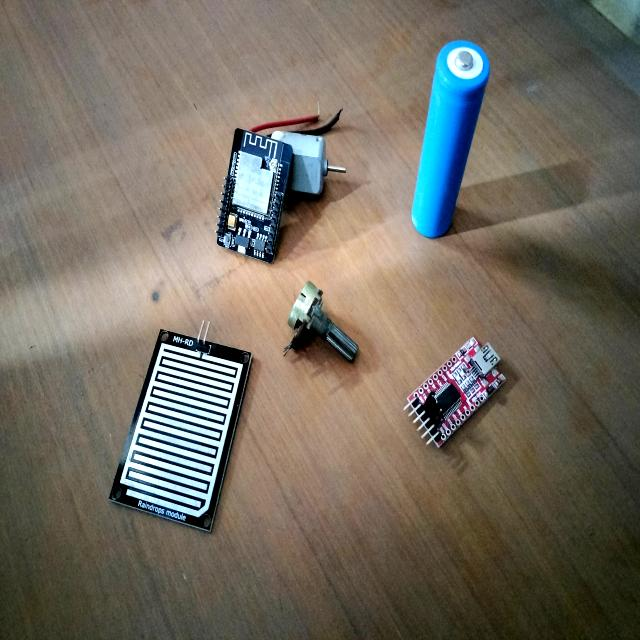3-3-Volt-Battery: (395, 26, 512, 268)
ESP32-CAM: (196, 118, 303, 279)
FT-232-USB-Serial-Module: (394, 318, 512, 470)
Raindrops-Module: (98, 316, 263, 548)
Taper-Potentiometer: (269, 272, 387, 404)
